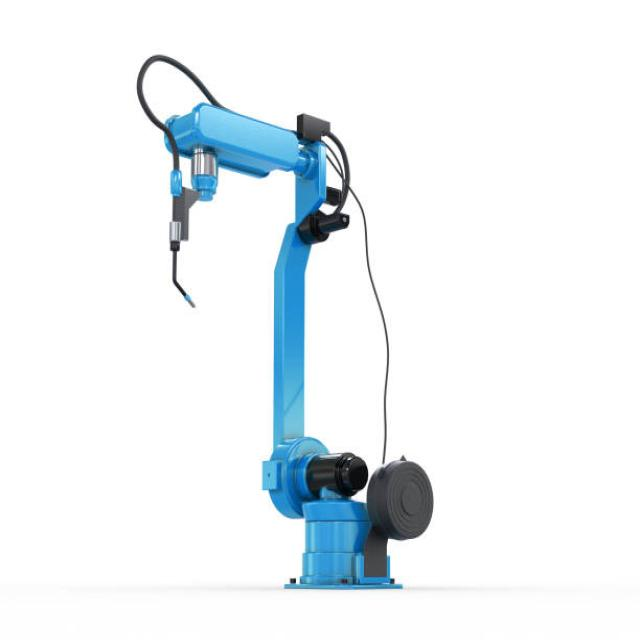Robotic-arm: (130, 51, 438, 605)
